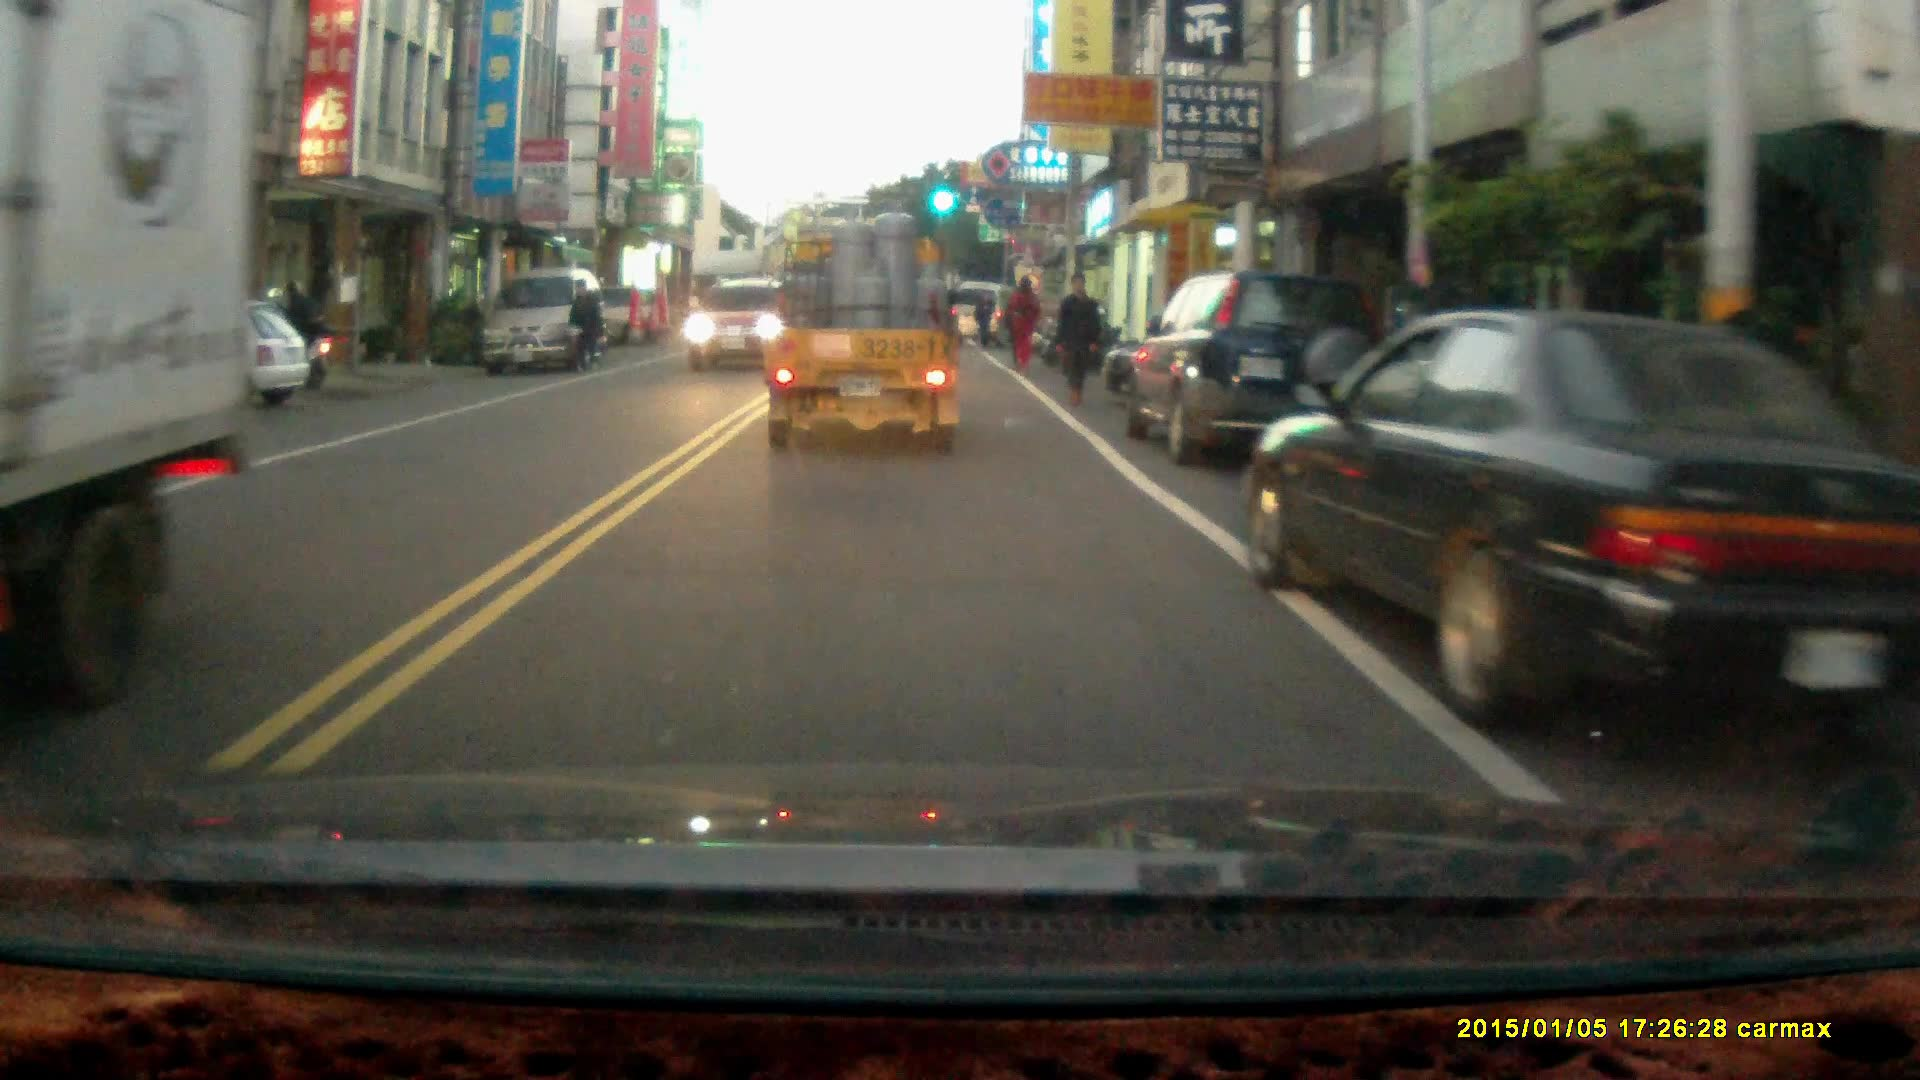pedestrian: (1051, 265, 1105, 405), (563, 276, 604, 368), (1001, 274, 1038, 371), (974, 287, 996, 344)
rider: (246, 282, 334, 395)
vehicle: (1244, 306, 1885, 743), (1, 10, 258, 714), (762, 195, 965, 459), (1128, 267, 1385, 466), (482, 267, 606, 375), (682, 278, 781, 371)
